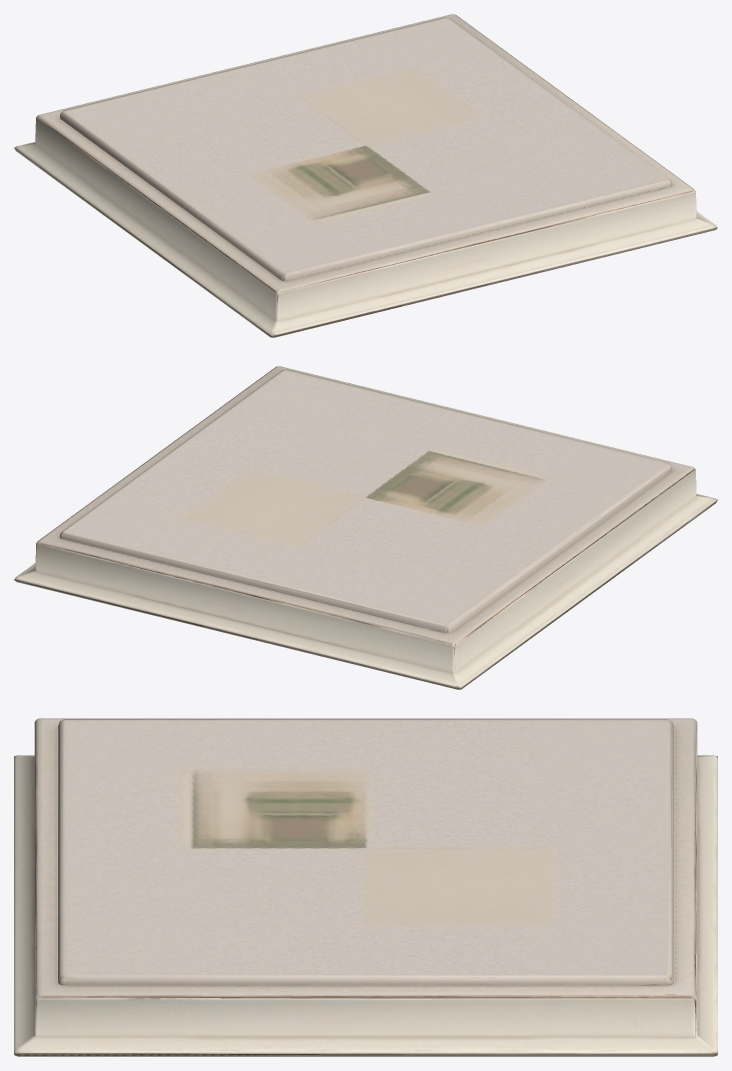
The model's file is tripo_convert_0f843152-b27e-4a63-9772-ef424d69963c.fbx.
The picture shows the model from 3 angles, top to bottom: view 1: azimuth 30°, elevation 25°; view 2: azimuth 150°, elevation 25°; view 3: azimuth 270°, elevation 25°; orthographic projection. The views are drawn at different scales.
Visible parts, largest first — view 1: tripo_node_0f843152; view 2: tripo_node_0f843152; view 3: tripo_node_0f843152.
Part boxes in pixels (<box>): tripo_node_0f843152: <box>14,14,717,337</box>; tripo_node_0f843152: <box>14,366,717,689</box>; tripo_node_0f843152: <box>14,718,717,1056</box>.
Size of the model in its own units: 0.998 by 0.1074 by 0.998.
Materials: 1 (1 with a texture image).
